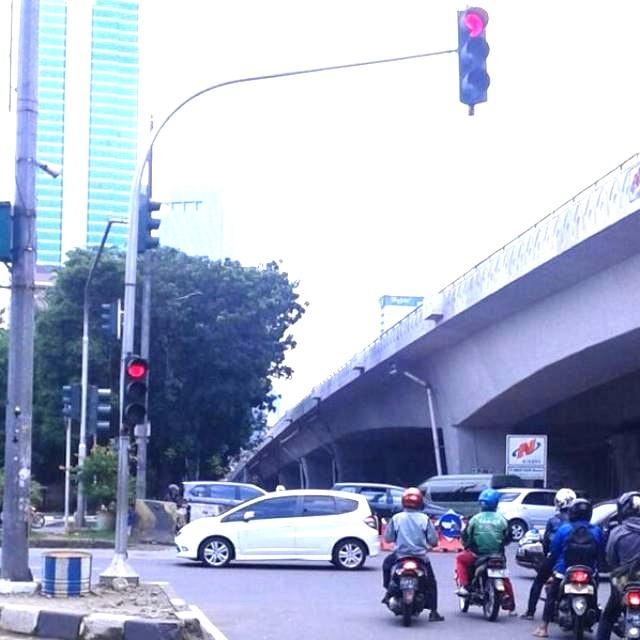Red: (437, 6, 530, 138), (96, 343, 169, 450)
